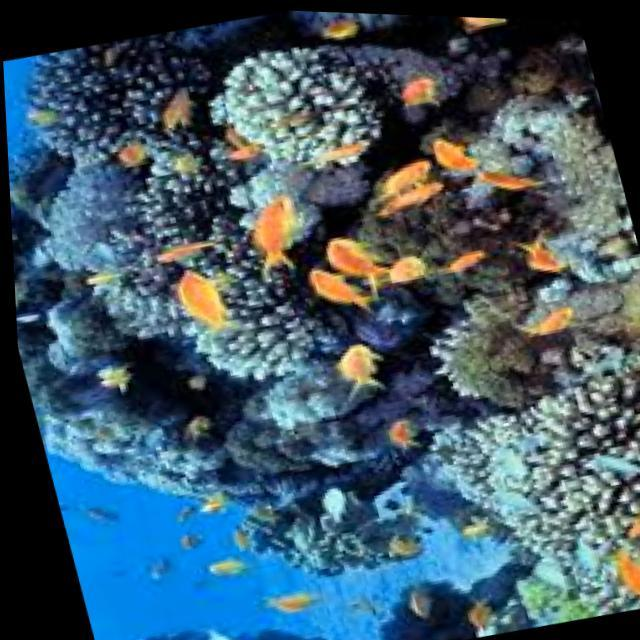Dead Coral: (204, 440, 428, 621), (154, 220, 308, 393), (2, 31, 172, 181)
